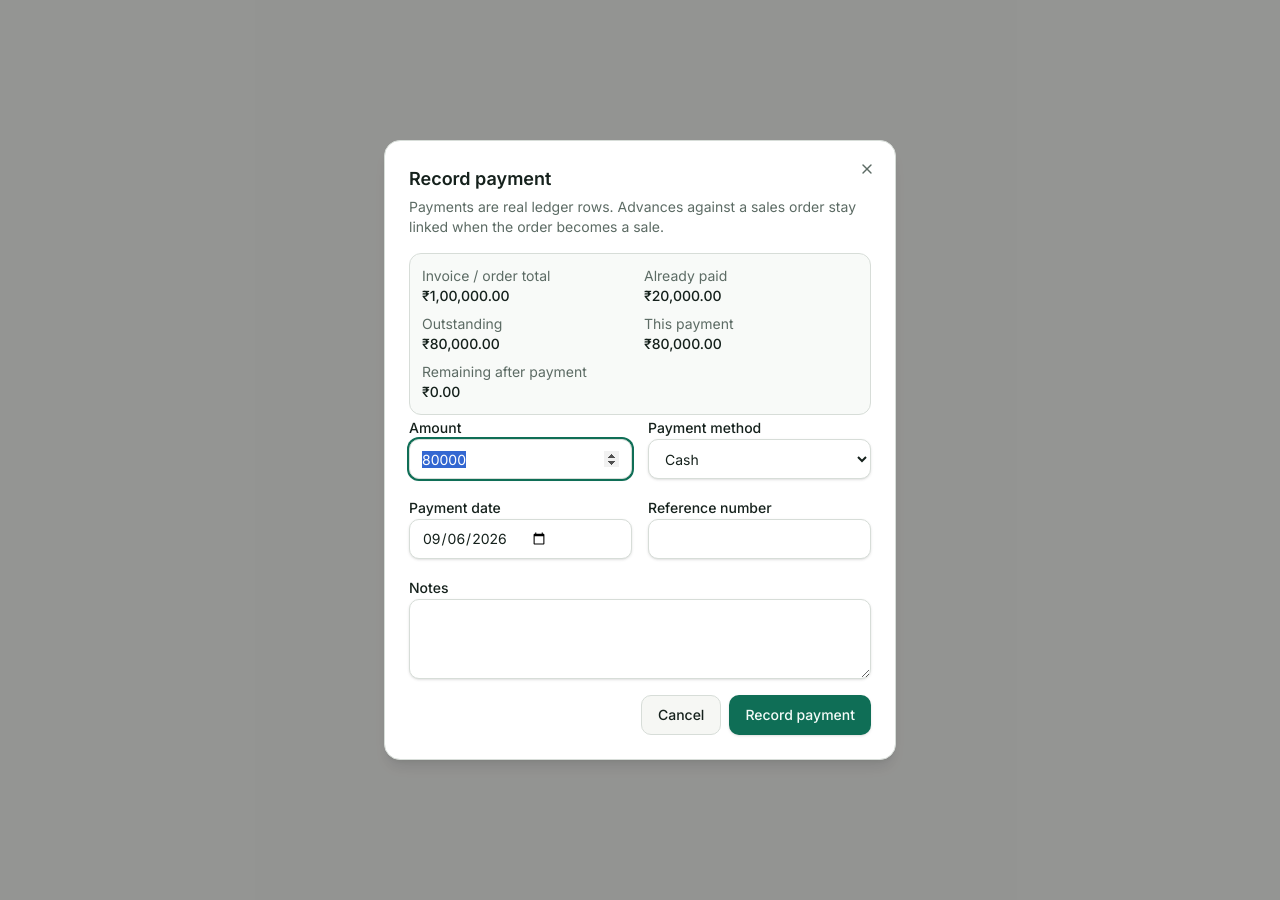
Test: record payment dialog › previews remaining balance and rejects overpayment client-side
Expected: the text "Invoice / order total" is shown, [422, 267, 550, 284]
Expected: the text "₹20,000.00" is shown, [644, 287, 722, 304]
Replace the text in the number field labelled "Amount" with "90000" at {"x": 520, "y": 459}, box [409, 439, 632, 479]
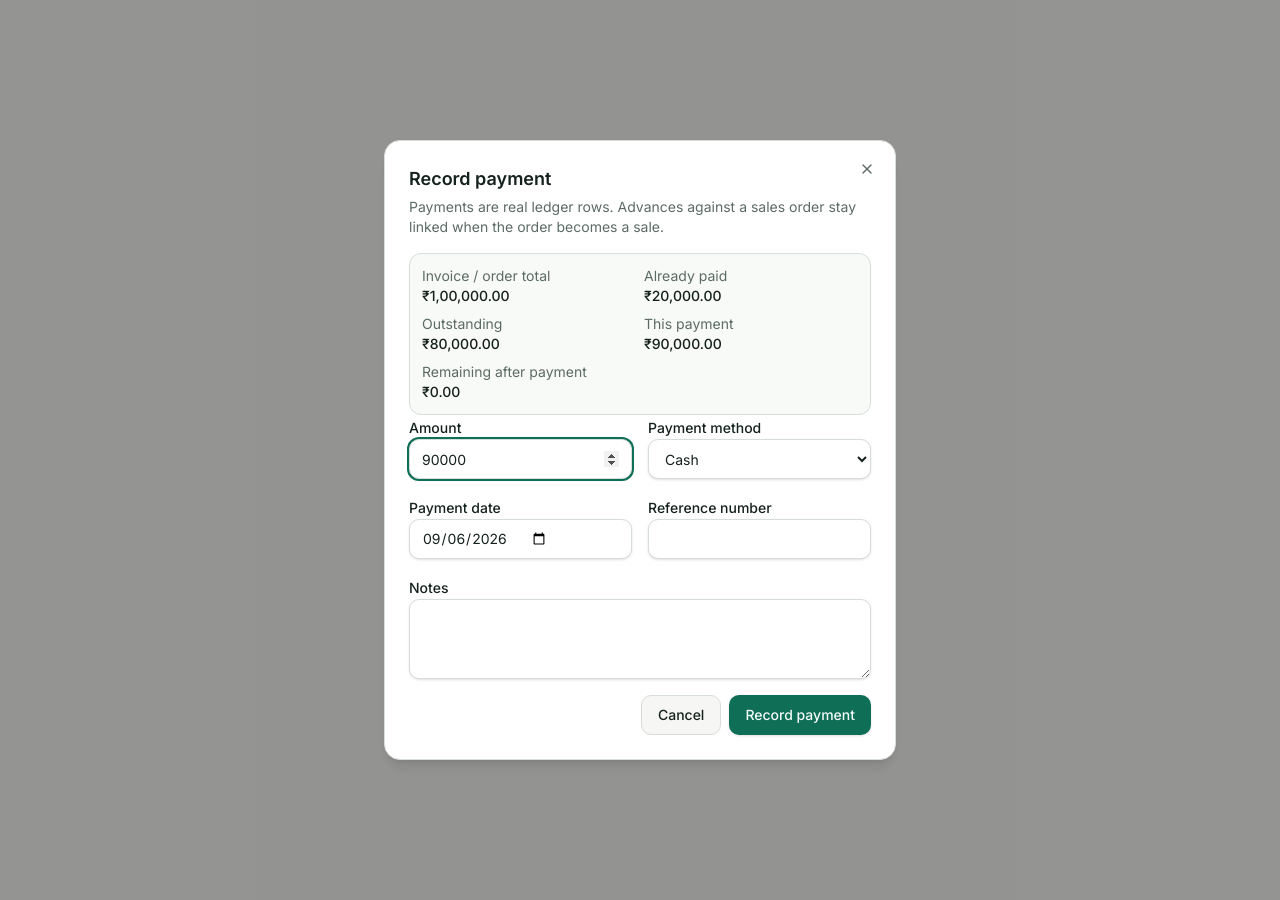
Click the button "Record payment" at {"x": 800, "y": 715}, box [729, 695, 871, 735]
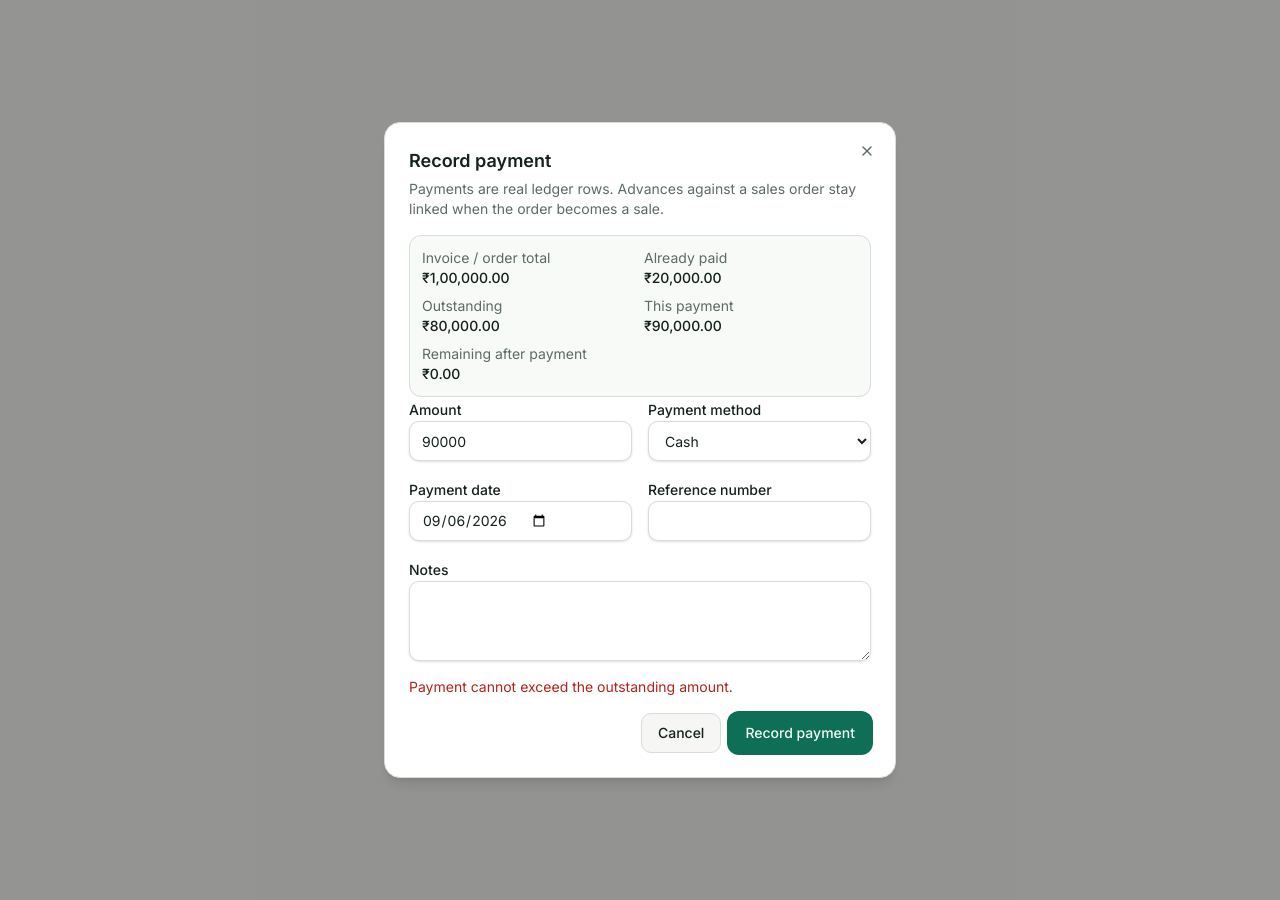
Result: the text "Payment cannot exceed the outstanding amount." is shown at [409, 678, 733, 695]
